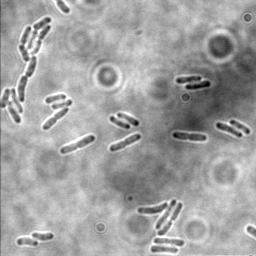Dividing: (156, 201, 183, 237), (59, 133, 96, 156), (109, 132, 142, 153), (41, 107, 69, 131), (171, 130, 209, 143), (152, 236, 185, 246)
Microcolony: (1, 15, 52, 124)
Rod: (153, 198, 177, 230), (215, 121, 243, 139), (136, 201, 169, 216), (228, 119, 252, 136), (116, 111, 141, 127), (108, 115, 131, 131), (184, 79, 212, 91), (149, 245, 179, 255), (49, 98, 73, 110), (174, 75, 202, 85), (31, 231, 54, 242), (44, 93, 67, 104), (16, 236, 38, 247)
